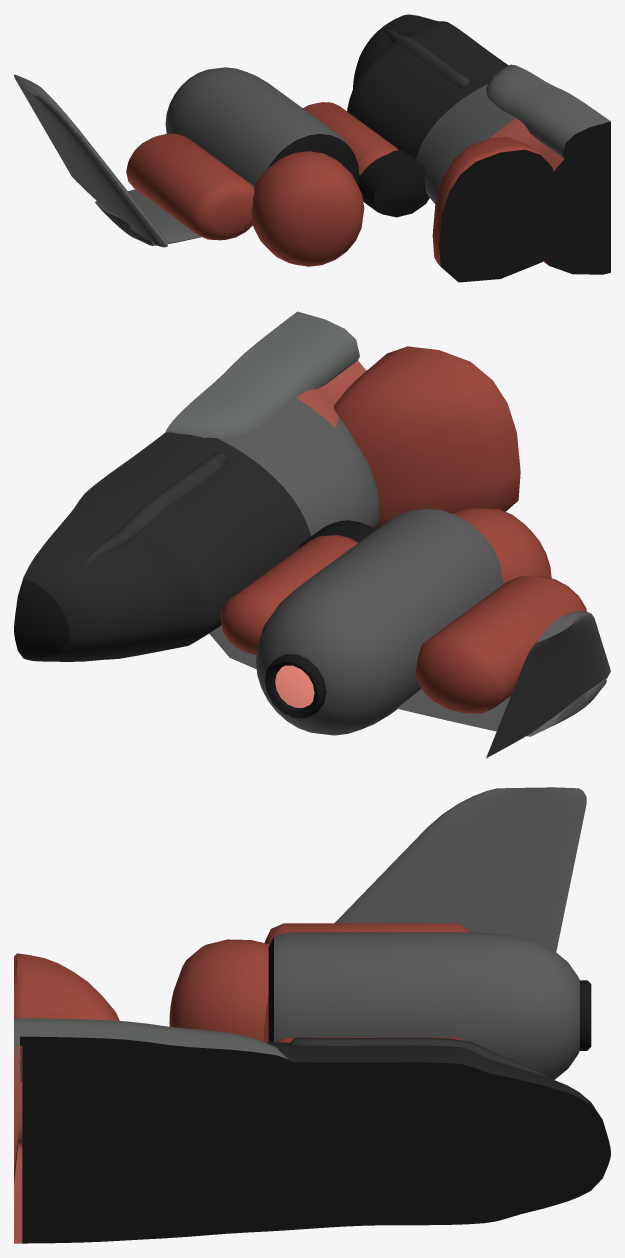
The model's file is redwing_201.glb.
The picture shows the model from 3 angles, top to bottom: view 1: azimuth 30°, elevation 25°; view 2: azimuth 150°, elevation 25°; view 3: azimuth 270°, elevation 25°; orthographic projection. The views are drawn at different scales.
Parts seen in each view (by area): view 1: fuselage.001, shoulder_l.001, nacelle_l.001, cap_l.001, pod_out_l.001, spine.001, tip_fin_l.001, pylon_l.001, pod_in_l.001, tailplane_l.001, tail_ridge_l.001; view 2: fuselage.001, nacelle_l.001, shoulder_l.001, pod_out_l.001, spine.001, tip_fin_l.001, pod_in_l.001, cap_l.001, tailplane_l.001, tail_ridge_l.001, nozzle_l.001, exhaust_l.001 (+1 smaller); view 3: fuselage.001, nacelle_l.001, tip_fin_l.001, spine.001, cap_l.001, shoulder_l.001, tail_ridge_l.001, pod_out_l.001, nozzle_l.001.
Boxes of the visible parts, box(x1,y1,x2,y2) form: fuselage.001: box(347, 14, 610, 274); shoulder_l.001: box(432, 137, 560, 282); nacelle_l.001: box(165, 67, 359, 186); cap_l.001: box(251, 151, 364, 266); pod_out_l.001: box(126, 133, 254, 240); spine.001: box(486, 64, 610, 161); tip_fin_l.001: box(14, 74, 167, 247); pylon_l.001: box(358, 149, 429, 217); pod_in_l.001: box(303, 102, 398, 174); tailplane_l.001: box(95, 189, 201, 245); tail_ridge_l.001: box(384, 30, 469, 87); fuselage.001: box(14, 360, 379, 661); nacelle_l.001: box(256, 508, 503, 735); shoulder_l.001: box(334, 346, 520, 529); pod_out_l.001: box(415, 575, 586, 713); spine.001: box(166, 311, 359, 438); tip_fin_l.001: box(486, 611, 610, 758); pod_in_l.001: box(220, 535, 358, 654); cap_l.001: box(452, 508, 551, 583); tailplane_l.001: box(209, 625, 606, 736); tail_ridge_l.001: box(82, 452, 227, 566); nozzle_l.001: box(265, 654, 326, 718); exhaust_l.001: box(275, 665, 314, 707); fuselage.001: box(14, 1041, 610, 1243); nacelle_l.001: box(268, 932, 579, 1079); tip_fin_l.001: box(334, 787, 586, 951); spine.001: box(14, 1018, 294, 1097); cap_l.001: box(169, 939, 269, 1041); shoulder_l.001: box(14, 953, 119, 1020); tail_ridge_l.001: box(289, 1037, 549, 1077); pod_out_l.001: box(264, 923, 471, 944); nozzle_l.001: box(579, 980, 591, 1050).
Bounding box in the file's own units: 22.87 × 8.39 × 21.92.
